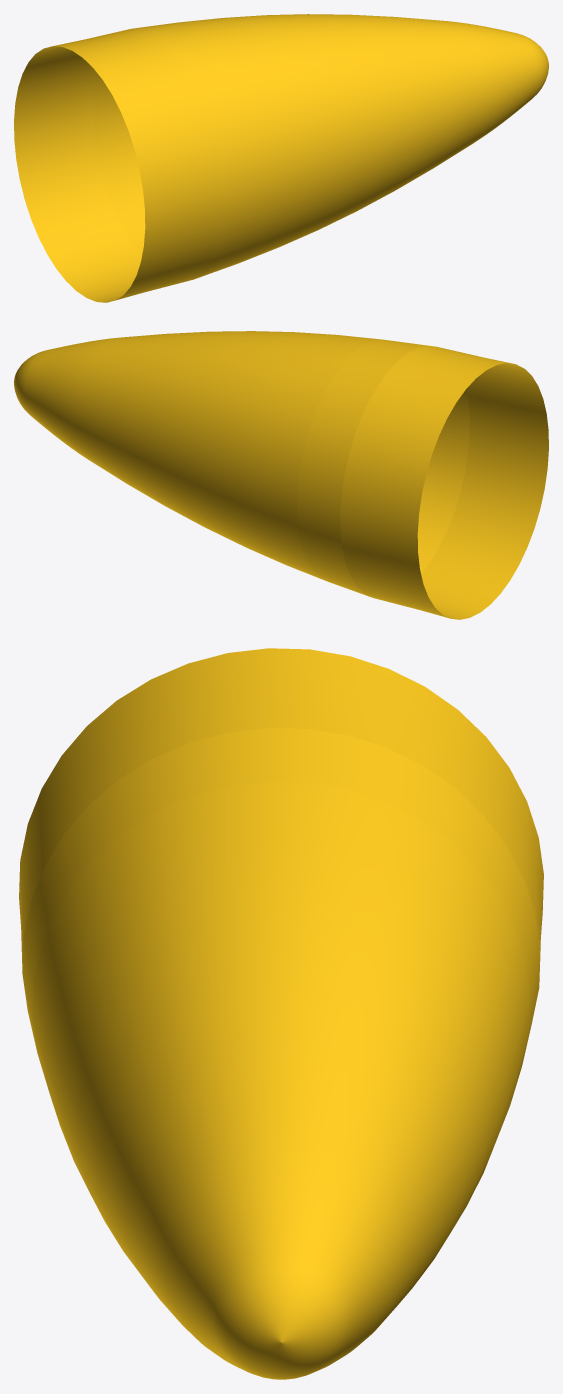
The model's file is head.obj.
3 renders of one model, top to bottom at view 1: azimuth 30°, elevation 25°; view 2: azimuth 150°, elevation 25°; view 3: azimuth 270°, elevation 25°, orthographic. The views are drawn at different scales.
Parts seen in each view (by area): view 1: Line061; view 2: Line061; view 3: Line061.
Part boxes in pixels (x1=…): Line061: x1=14, y1=14, x2=548, y2=302; Line061: x1=14, y1=331, x2=548, y2=619; Line061: x1=19, y1=648, x2=543, y2=1379.
Bounding box in the file's own units: 6.86 × 3.34 × 3.34.
